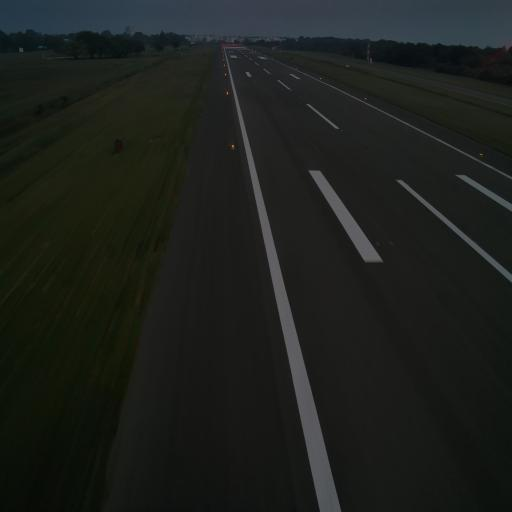off: (387, 238, 396, 251), (375, 238, 381, 248), (366, 148, 370, 156), (298, 146, 302, 152), (316, 147, 319, 153), (340, 129, 344, 133), (308, 146, 310, 152)
on: (229, 142, 235, 151), (479, 149, 484, 159), (364, 96, 368, 101)
